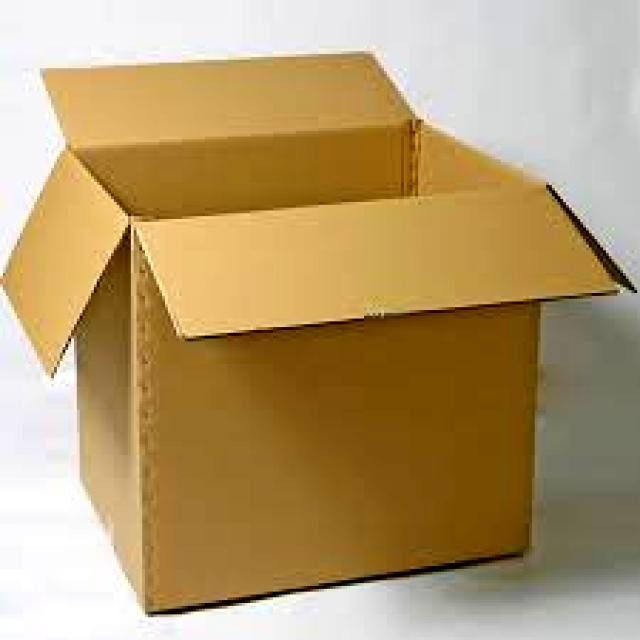Cardboard: (0, 41, 640, 624)
